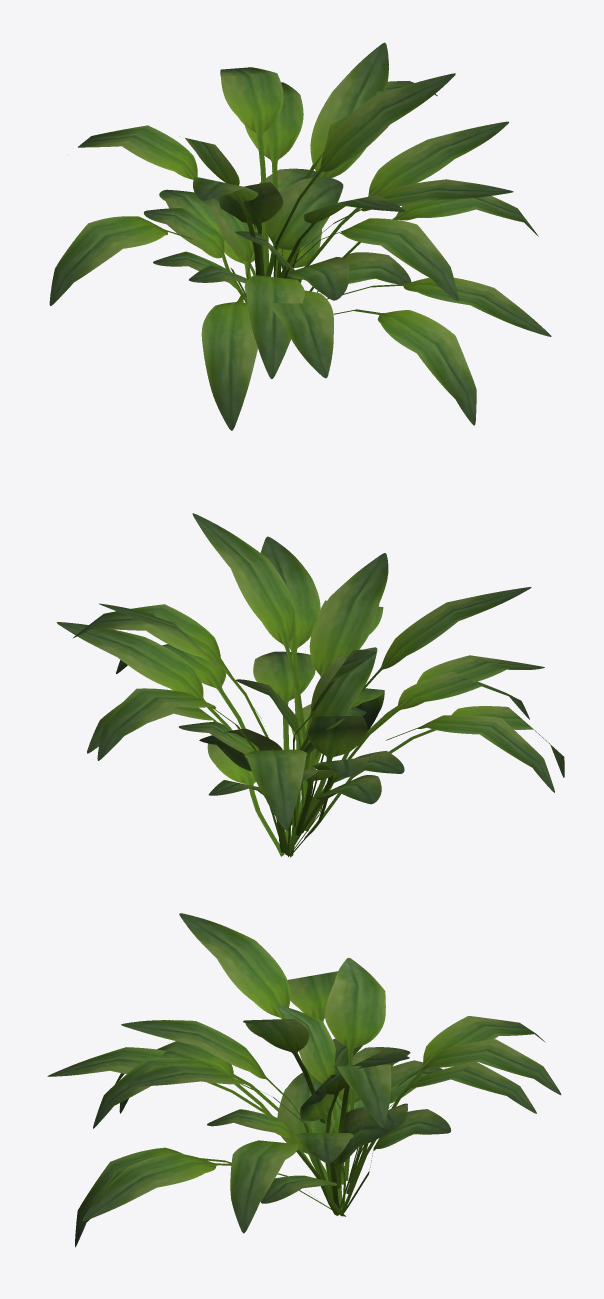
The model's file is SmallLeafPlant01.dae.
3 views of the same model, one above another, from view 1: azimuth 30°, elevation 25°; view 2: azimuth 150°, elevation 25°; view 3: azimuth 270°, elevation 25° (orthographic). The views are drawn at different scales.
Parts seen in each view (by area): view 1: polySurface254; view 2: polySurface254; view 3: polySurface254.
Part boxes in pixels (bbox=[...]): polySurface254: bbox=[49, 42, 551, 430]; polySurface254: bbox=[56, 513, 564, 857]; polySurface254: bbox=[47, 913, 561, 1247].
Size of the model in its own units: 1.52 by 0.8599 by 1.54.
Materials: 1 (1 with a texture image).
